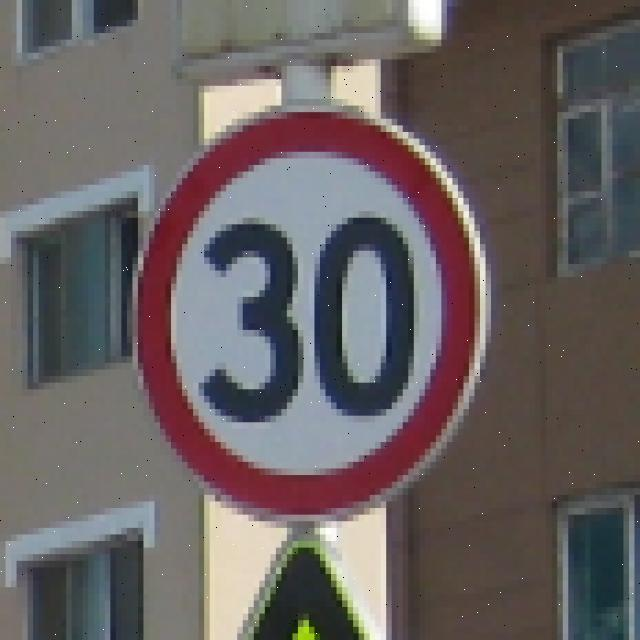speed limit 30: (133, 108, 487, 519)
